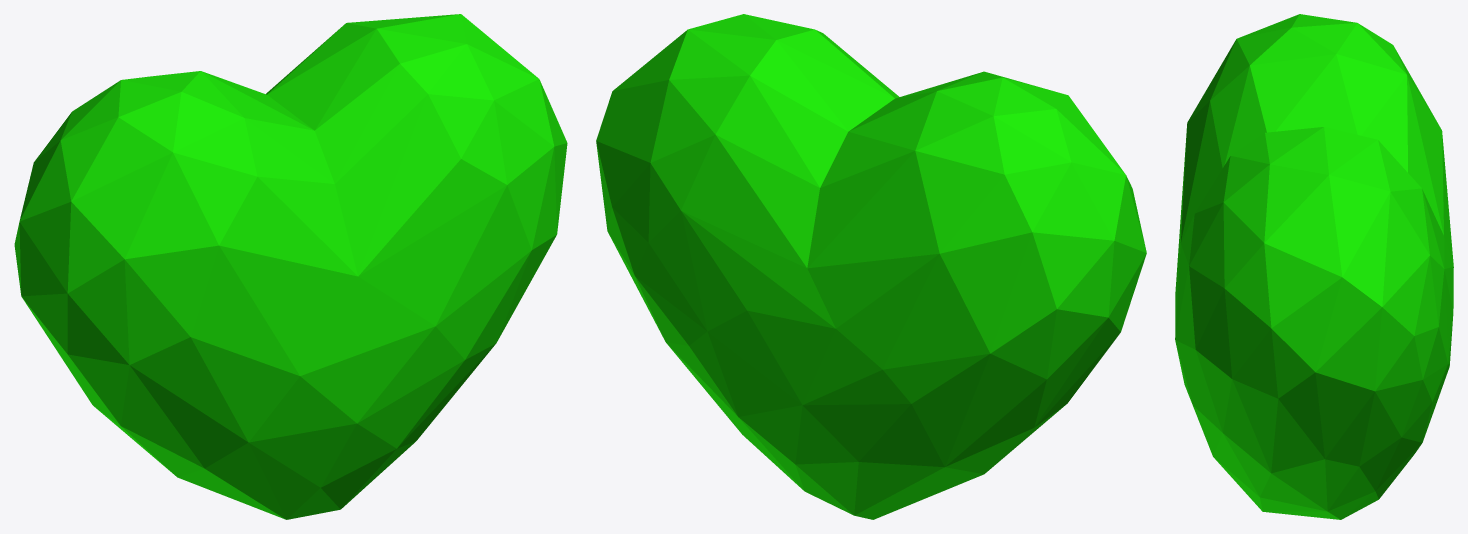
Rendered from PowerUp5.fbx.
3 views of the same model, side by side, from view 1: azimuth 30°, elevation 25°; view 2: azimuth 150°, elevation 25°; view 3: azimuth 270°, elevation 25° (orthographic). The views are drawn at different scales.
Parts seen in each view (by area): view 1: Love; view 2: Love; view 3: Love.
Part boxes in pixels (left/top/right/bottom): Love: left=14, top=14, right=567, bottom=519; Love: left=596, top=14, right=1146, bottom=519; Love: left=1175, top=14, right=1453, bottom=519.
Size of the model in its own units: 33.98 by 28.41 by 16.74.
